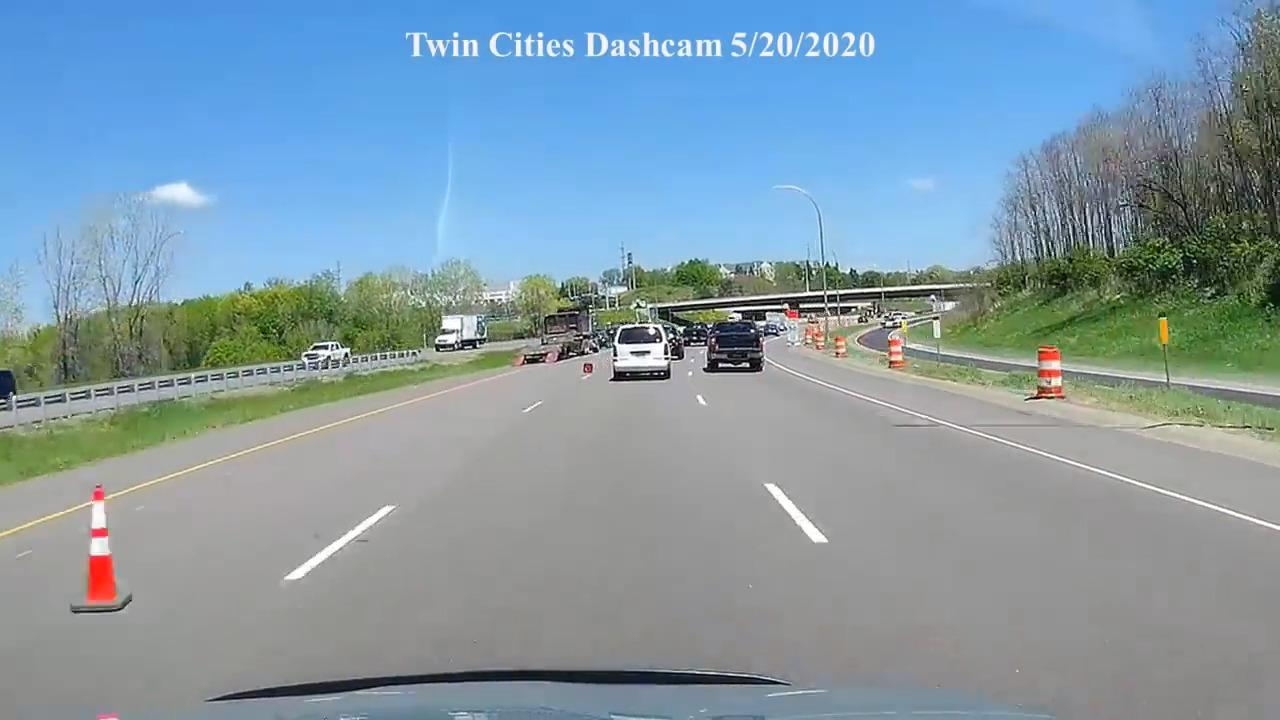car: (610, 324, 672, 381), (704, 321, 765, 372), (301, 341, 351, 371)
traffic cone: (69, 483, 133, 614), (1025, 346, 1066, 402), (834, 335, 848, 359), (582, 363, 594, 379)
traffic light: (786, 301, 800, 320)
